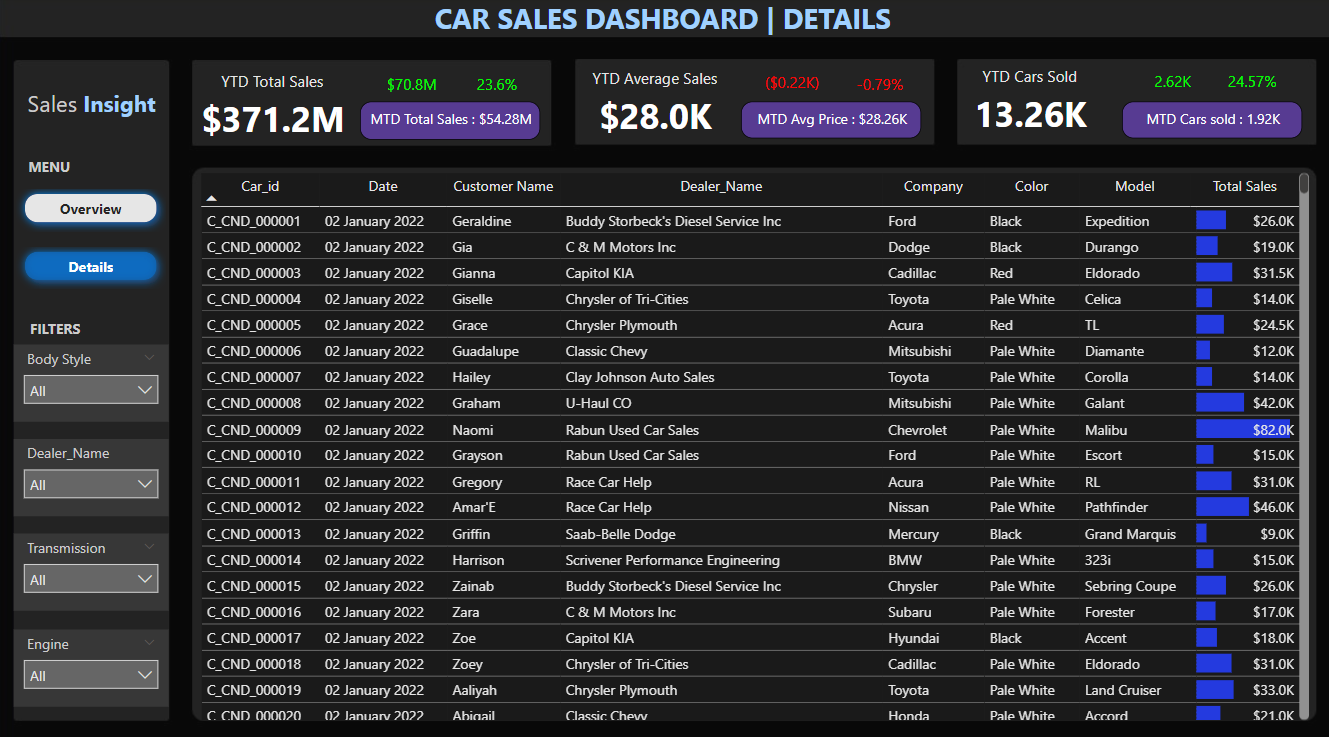

Layout of this report page (visuals, bound fields, positions):
{"tool":"powerbi","page":{"name":"Details","canvas":[1280,720],"ordinal":1},"visuals":[{"type":"card","title":"YTD Total Sales","fields":{"Values":["car_data.YTD_Total_sales"]},"box":[189.3,71.2,148.4,72.7],"z":0},{"type":"card","fields":{"Values":["car_data.sales difference"]},"box":[358.9,71.2,75.7,30.3],"z":1000},{"type":"card","fields":{"Values":["car_data.Sales difference percentage"]},"box":[434.6,71.2,89.3,30.3],"z":2000},{"type":"card","fields":{"Values":["car_data.MTD KPI"]},"box":[348.3,101.5,172.6,36.3],"z":3000},{"type":"card","title":"YTD Average Sales","fields":{"Values":["car_data.YTD average sales"]},"box":[555.7,69.7,148.4,72.7],"z":4000},{"type":"card","fields":{"Values":["car_data.YOY avg price growth"]},"box":[807.1,71.2,75.7,30.3],"z":5000},{"type":"card","fields":{"Values":["car_data.MTD avg KPI"]},"box":[712.6,102.5,172.9,35.2],"z":6000},{"type":"card","fields":{"Values":["car_data.Avg price diff"]},"box":[722.2,70.5,76.9,30.4],"z":7000},{"type":"card","title":"YTD Cars Sold","fields":{"Values":["car_data.YTD cars sold"]},"box":[916.1,68.1,148.4,72.7],"z":8000},{"type":"card","fields":{"Values":["car_data.Cars sold diff"]},"box":[1087.3,68.9,76.9,30.4],"z":9000},{"type":"card","fields":{"Values":["car_data.YOY cars sold growth"]},"box":[1164.2,68.9,76.9,30.4],"z":10000},{"type":"card","fields":{"Values":["car_data.MTD CARS KPI"]},"box":[1077.7,102.5,172.9,35.2],"z":11000},{"type":"textbox","box":[345,0,586,46.9],"z":12000},{"type":"textbox","box":[21.2,305.9,68.1,28.8],"z":13000},{"type":"slicer","fields":{"Values":["car_data.Body Style"]},"box":[15.1,334.6,148.4,74.2],"z":14000},{"type":"slicer","fields":{"Values":["car_data.Dealer_Name"]},"box":[15.1,425.5,148.4,74.2],"z":15000},{"type":"slicer","fields":{"Values":["car_data.Transmission"]},"box":[15.1,516.3,148.4,74.2],"z":16000},{"type":"slicer","fields":{"Values":["car_data.Engine"]},"box":[15.1,607.2,148.4,74.2],"z":17000},{"type":"tableEx","fields":{"Values":["car_data.Car_id","car_data.Date","car_data.Customer Name","car_data.Dealer_Name","car_data.Company","car_data.Color","car_data.Model","car_data.Price ($)"]},"box":[189.3,165,1072.1,534.5],"z":18000},{"type":"pageNavigator","box":[15.1,180.2,148.4,104.5],"z":19000},{"type":"textbox","box":[15.1,151.4,68.1,28.8],"z":20000},{"type":"textbox","box":[16.7,84.8,146.9,53],"z":21000}]}

Visuals, with their boxes on the page's 1280x720 design canvas (x1, y1, x2, y2). These are canvas units, not pixel positions in the 1329x737 screenshot, which may show the page scaled, cropped or inside an application window:
"YTD Total Sales" card: <box>189,71,338,144</box>
card - car_data.sales difference: <box>359,71,435,102</box>
card - car_data.Sales difference percentage: <box>435,71,524,102</box>
card - car_data.MTD KPI: <box>348,102,521,138</box>
"YTD Average Sales" card: <box>556,70,704,142</box>
card - car_data.YOY avg price growth: <box>807,71,883,102</box>
card - car_data.MTD avg KPI: <box>713,102,886,138</box>
card - car_data.Avg price diff: <box>722,70,799,101</box>
"YTD Cars Sold" card: <box>916,68,1064,141</box>
card - car_data.Cars sold diff: <box>1087,69,1164,99</box>
card - car_data.YOY cars sold growth: <box>1164,69,1241,99</box>
card - car_data.MTD CARS KPI: <box>1078,102,1251,138</box>
textbox: <box>345,0,931,47</box>
textbox: <box>21,306,89,335</box>
slicer - car_data.Body Style: <box>15,335,164,409</box>
slicer - car_data.Dealer_Name: <box>15,426,164,500</box>
slicer - car_data.Transmission: <box>15,516,164,590</box>
slicer - car_data.Engine: <box>15,607,164,681</box>
tableEx - car_data.Car_id x car_data.Date: <box>189,165,1261,700</box>
pageNavigator: <box>15,180,164,285</box>
textbox: <box>15,151,83,180</box>
textbox: <box>17,85,164,138</box>
